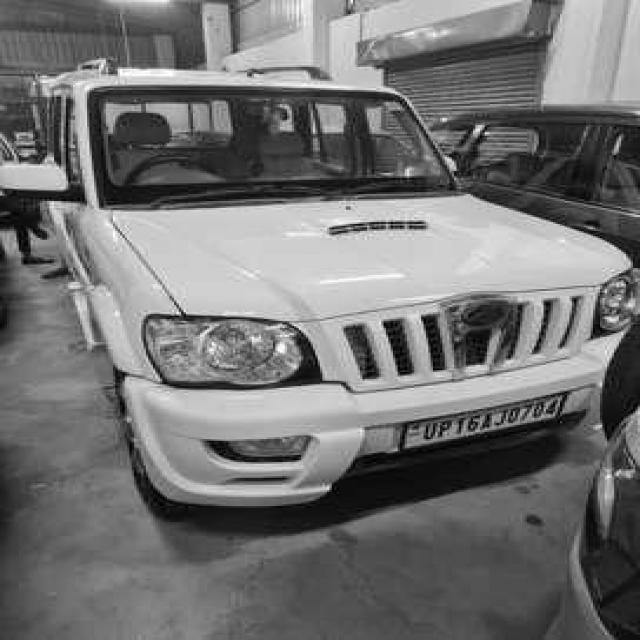car: (0, 63, 640, 510)
license-plate: (396, 384, 570, 462)
